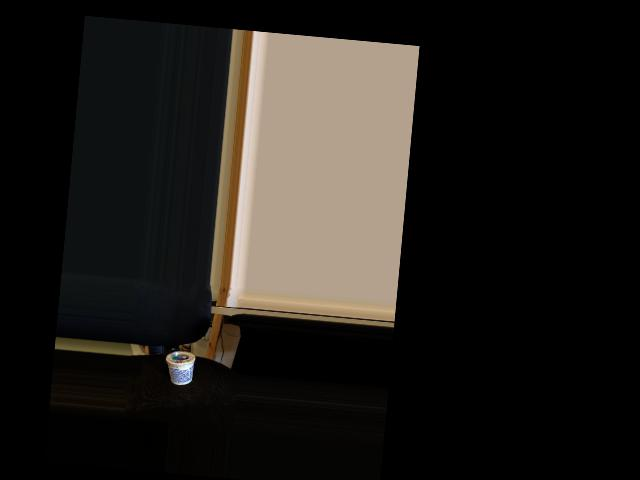cotage: (164, 347, 193, 386)
